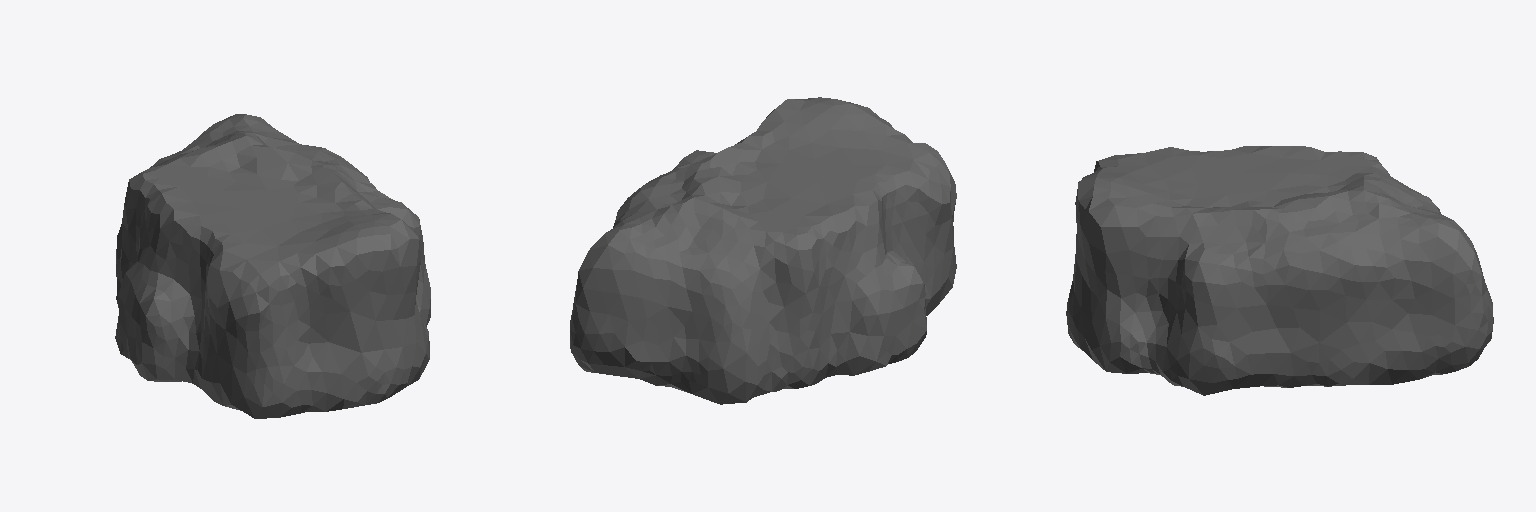
Rendered from CavePlatform3_D.obj.
3 renders of one model, left to right at view 1: azimuth 30°, elevation 25°; view 2: azimuth 150°, elevation 25°; view 3: azimuth 270°, elevation 25°, orthographic.
Visible parts, largest first — view 1: CavePlatform3D; view 2: CavePlatform3D; view 3: CavePlatform3D.
Part boxes in pixels (x1,y1,x2,y2): CavePlatform3D: (115,114,430,418); CavePlatform3D: (570,97,956,404); CavePlatform3D: (1066,146,1493,395).
Bounding box in the file's own units: 34.25 × 20.01 × 46.41.